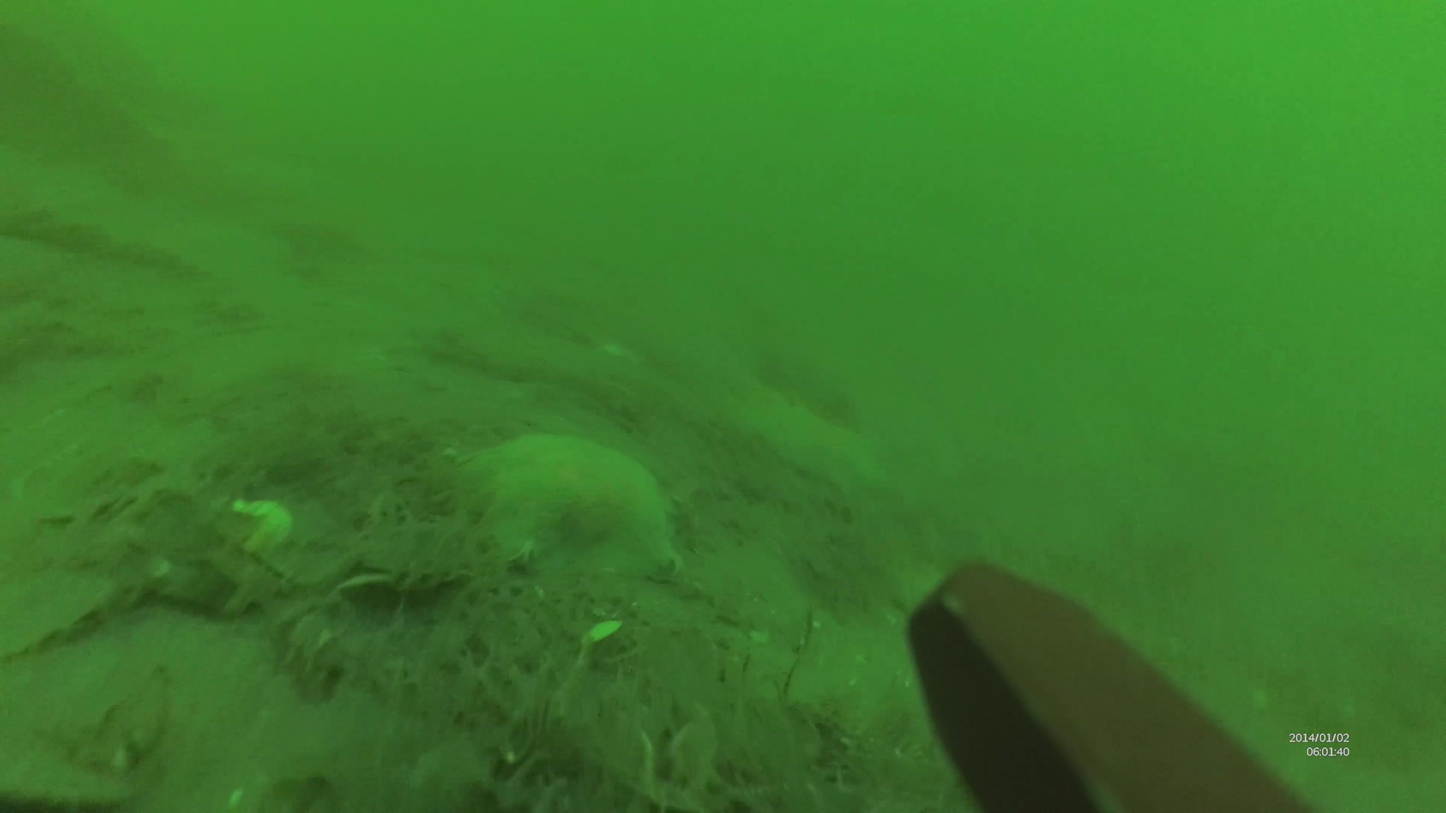holothurian: (447, 429, 688, 586)
